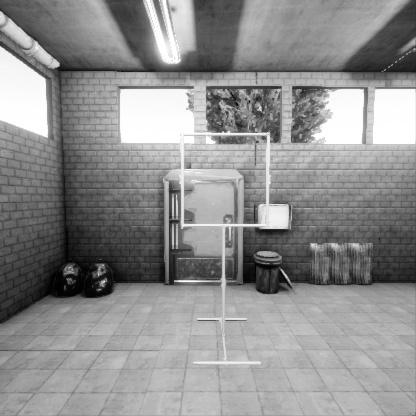gate: (179, 192, 275, 288)
